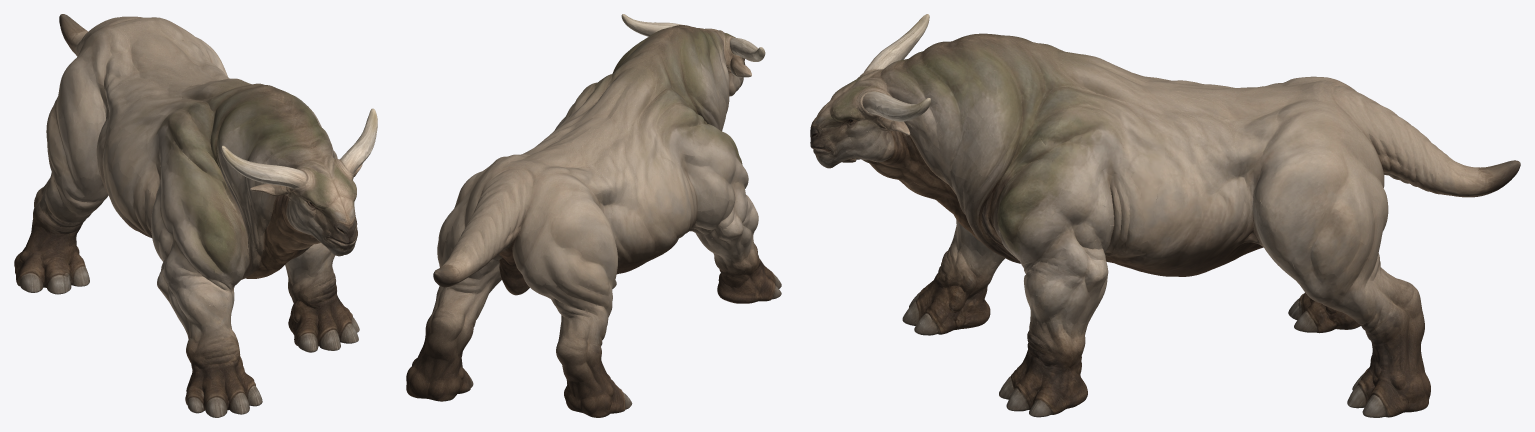
File: Meshy_AI_Titanhorn_1021121044_texture.glb
The picture shows the model from 3 angles, left to right: view 1: azimuth 30°, elevation 25°; view 2: azimuth 150°, elevation 25°; view 3: azimuth 270°, elevation 25°; orthographic projection. The views are drawn at different scales.
Parts seen in each view (by area): view 1: output_unwrapped; view 2: output_unwrapped; view 3: output_unwrapped.
Part boxes in pixels (x1,y1,x2,y2): output_unwrapped: (14,14,377,417); output_unwrapped: (406,14,781,417); output_unwrapped: (810,14,1520,417).
Bounding box in the file's own units: 0.7576 × 0.9475 × 1.9.
1 material, 1 textured.
